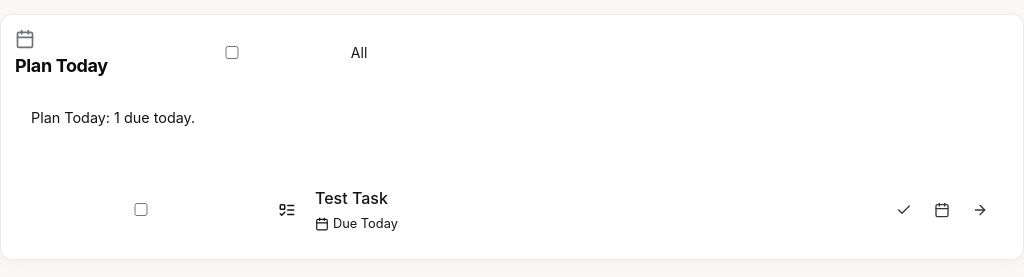
PlanTodayPanel › shows Complete N Selected button when items are selected
Expected: the text "Complete 1 Selected" is not shown
Click the checkbox named "Select item: Test Task" at (141, 210), box [31,203,251,216]
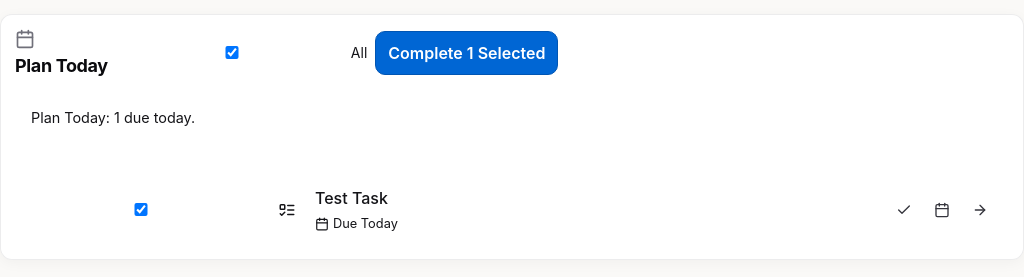
Now the button "Complete 1 Selected" is shown, box [375,31,558,75]
